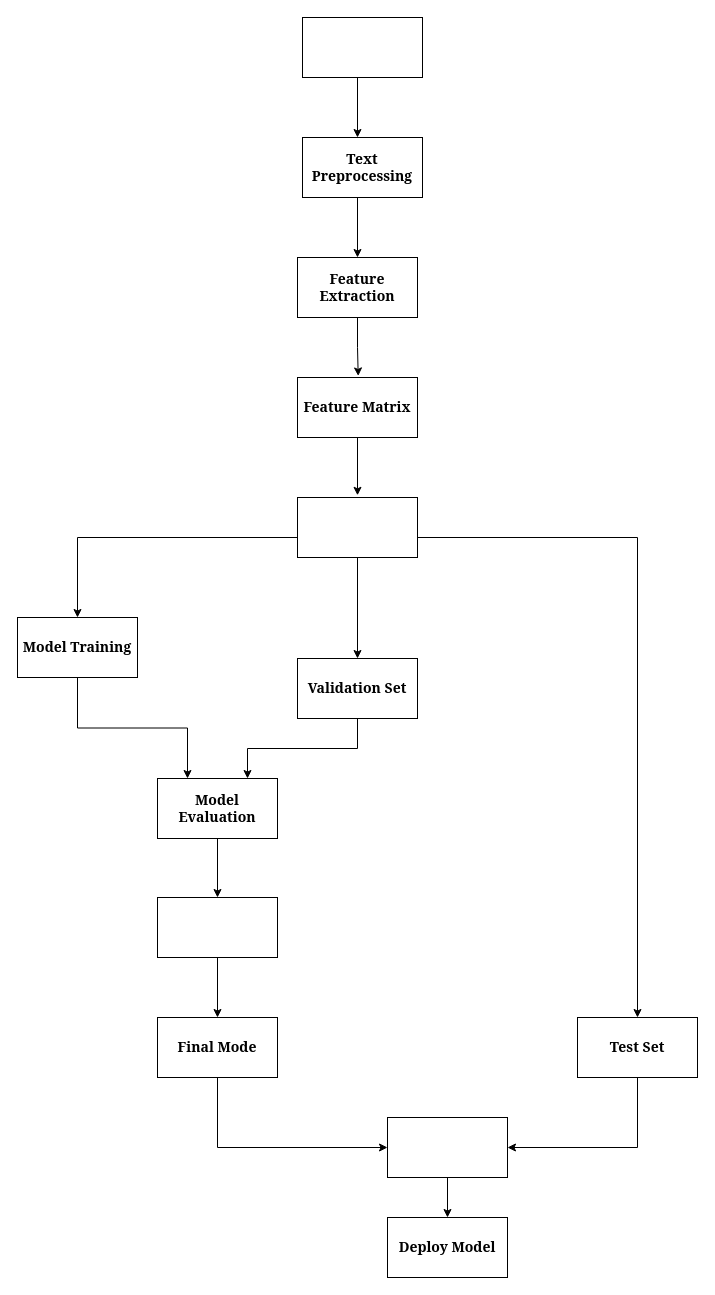
Image size: 715x1295. Some labels were removed from this diagram. Here are the shapes that lost their labels. From the top down, the centre of each, then its label:
point 362,47: Raw Text Data
point 357,527: Split Data
point 217,927: Hyper Parameter Tuning
point 447,1147: Model Testing
